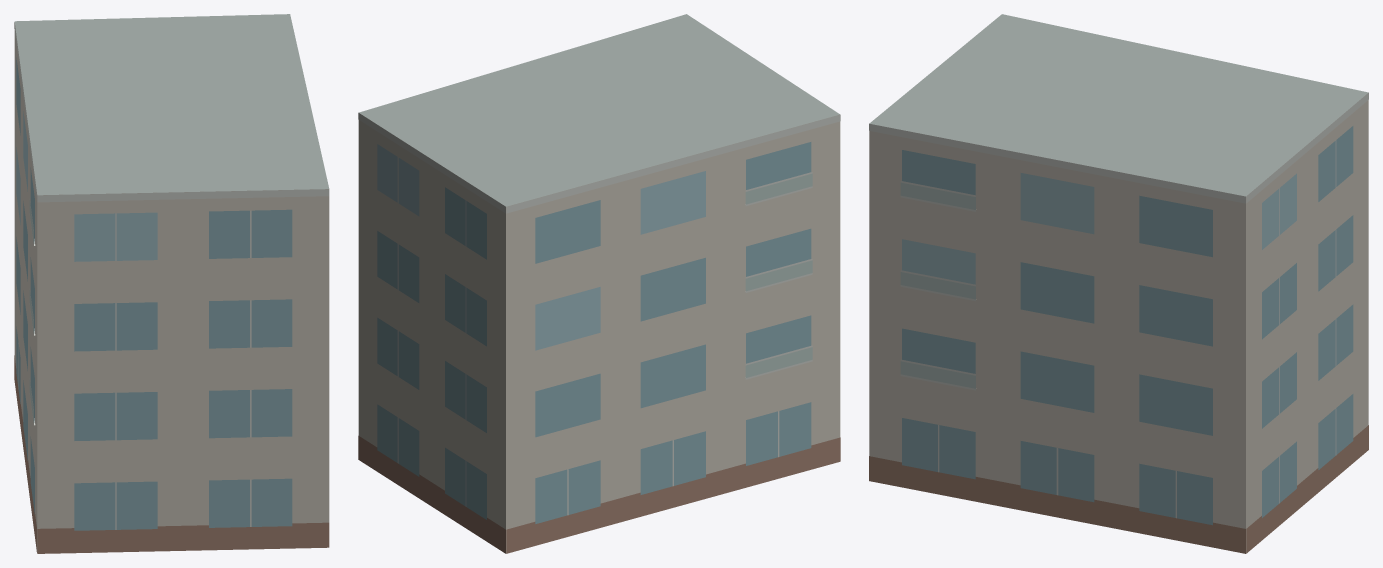
File: survey-upis-33042418.glb
The picture shows the model from 3 angles, left to right: view 1: azimuth 30°, elevation 25°; view 2: azimuth 150°, elevation 25°; view 3: azimuth 270°, elevation 25°; orthographic projection. The views are drawn at different scales.
Parts seen in each view (by area): view 1: survey-upis-33042418.tmp; view 2: survey-upis-33042418.tmp; view 3: survey-upis-33042418.tmp.
Part boxes in pixels (x1,y1,x2,y2): survey-upis-33042418.tmp: (14,14,329,553); survey-upis-33042418.tmp: (358,14,840,553); survey-upis-33042418.tmp: (869,14,1368,553).
Bounding box in the file's own units: 13.37 × 12.2 × 15.47.
